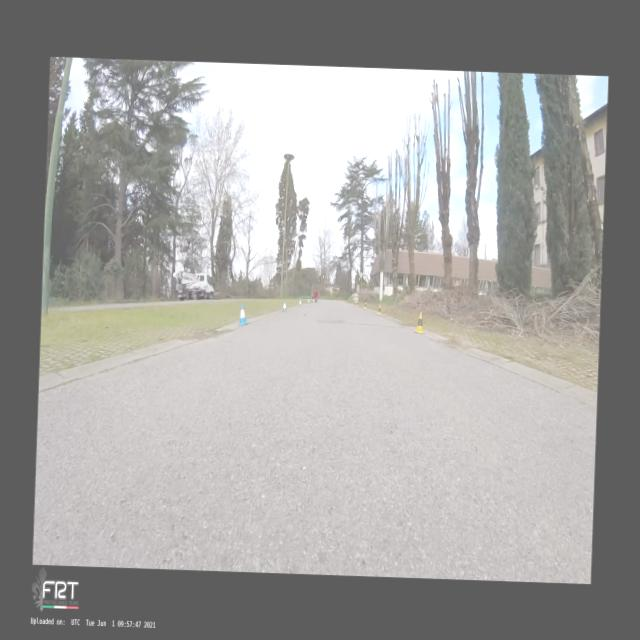blue_cone: (237, 304, 248, 324), (282, 301, 288, 311), (298, 300, 300, 305)
yellow_cone: (414, 312, 426, 333), (376, 304, 382, 314), (364, 301, 366, 308)
